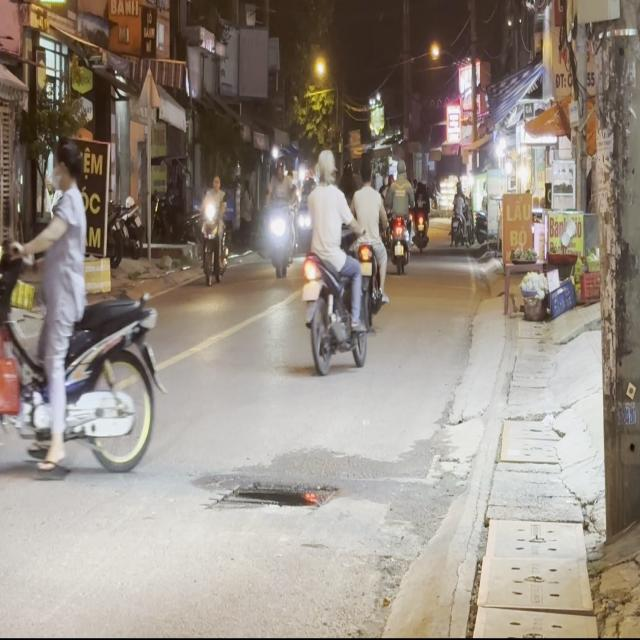licenseplate: (0, 131, 164, 479), (299, 146, 366, 373), (350, 153, 388, 325)
motorcyclist: (50, 139, 83, 195), (315, 148, 335, 183), (358, 155, 372, 185)
nohelmet: (302, 281, 319, 299), (359, 261, 372, 275)
